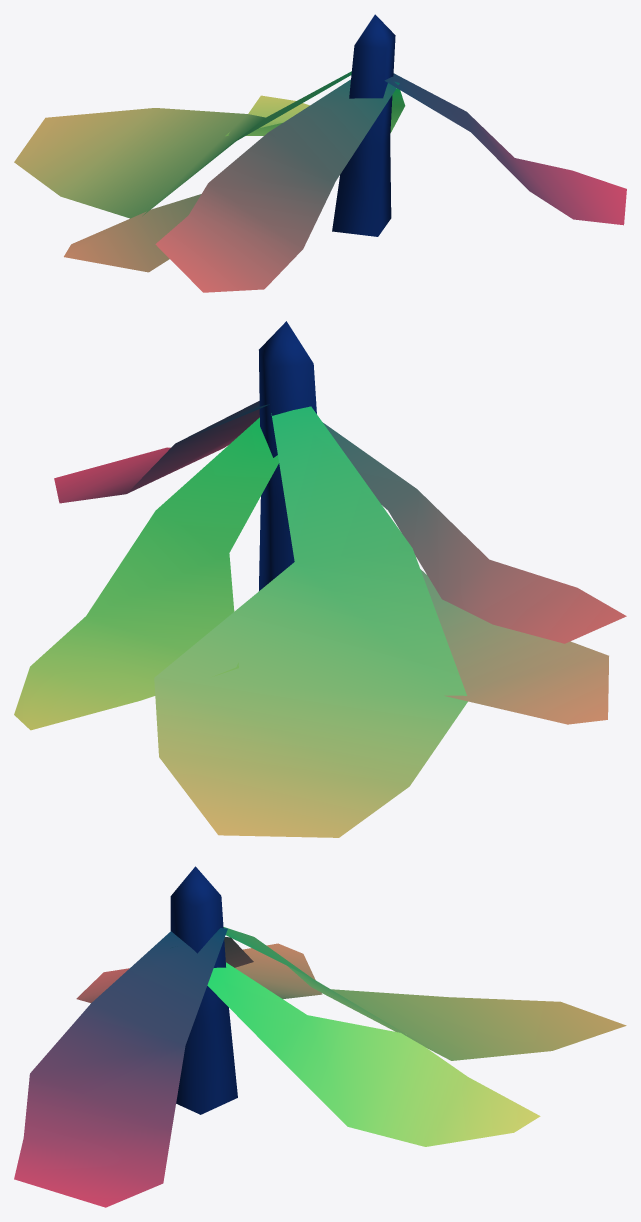
Rendered from sfcnq_VarE_LOD1.fbx.
3 renders of one model, top to bottom at view 1: azimuth 30°, elevation 25°; view 2: azimuth 150°, elevation 25°; view 3: azimuth 270°, elevation 25°, orthographic. The views are drawn at different scales.
Visible parts, largest first — view 1: _9227_VarE_LOD2; view 2: _9227_VarE_LOD2; view 3: _9227_VarE_LOD2.
Boxes of the visible parts, x1,y1,x2,y2 form: _9227_VarE_LOD2: (14, 14, 626, 292); _9227_VarE_LOD2: (14, 321, 626, 837); _9227_VarE_LOD2: (14, 866, 626, 1207).
Size of the model in its own units: 20.48 by 8.72 by 19.66.
